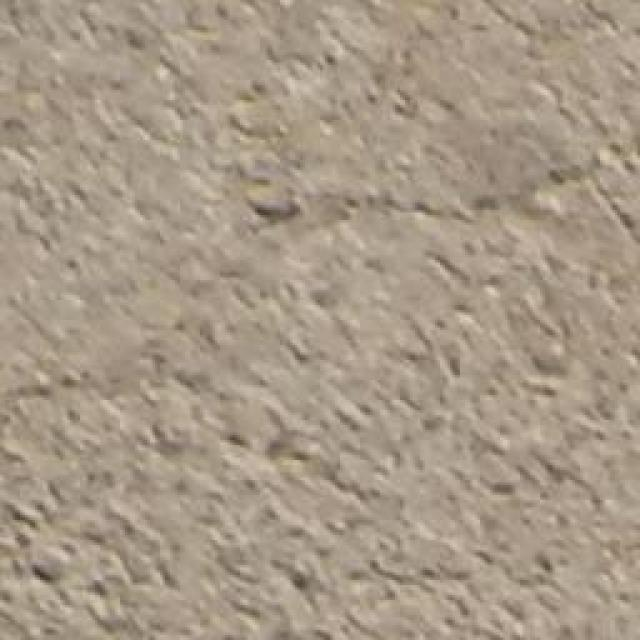concrete-crack: (248, 145, 634, 236)
